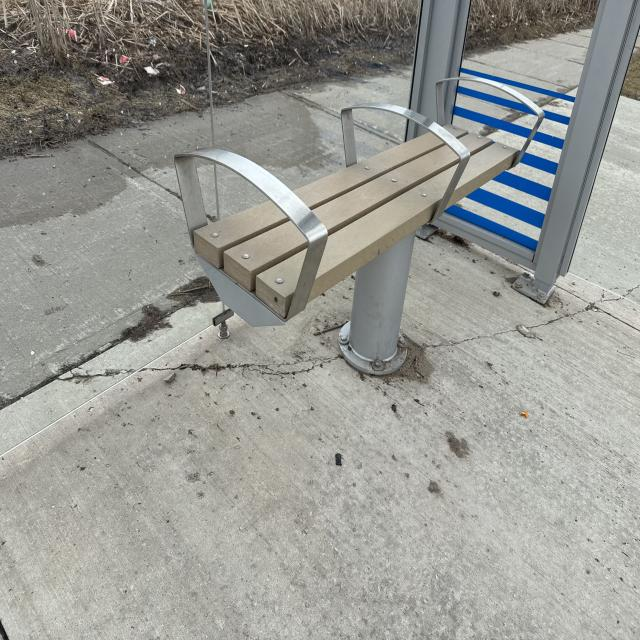Bench: (183, 72, 546, 375)
